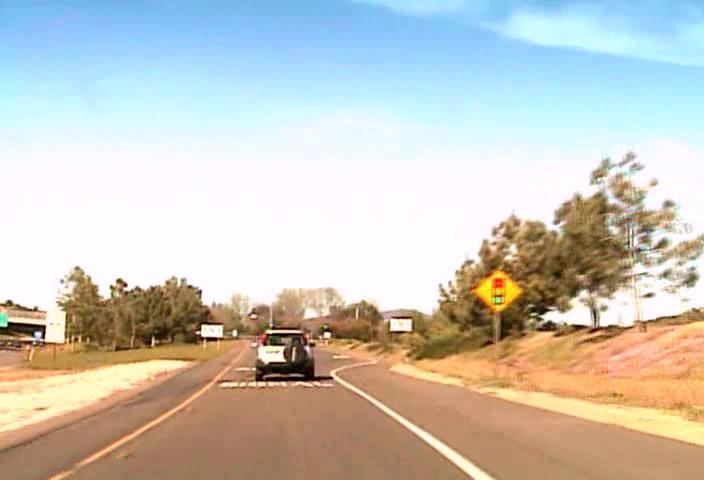signalAhead: (474, 267, 522, 311)
